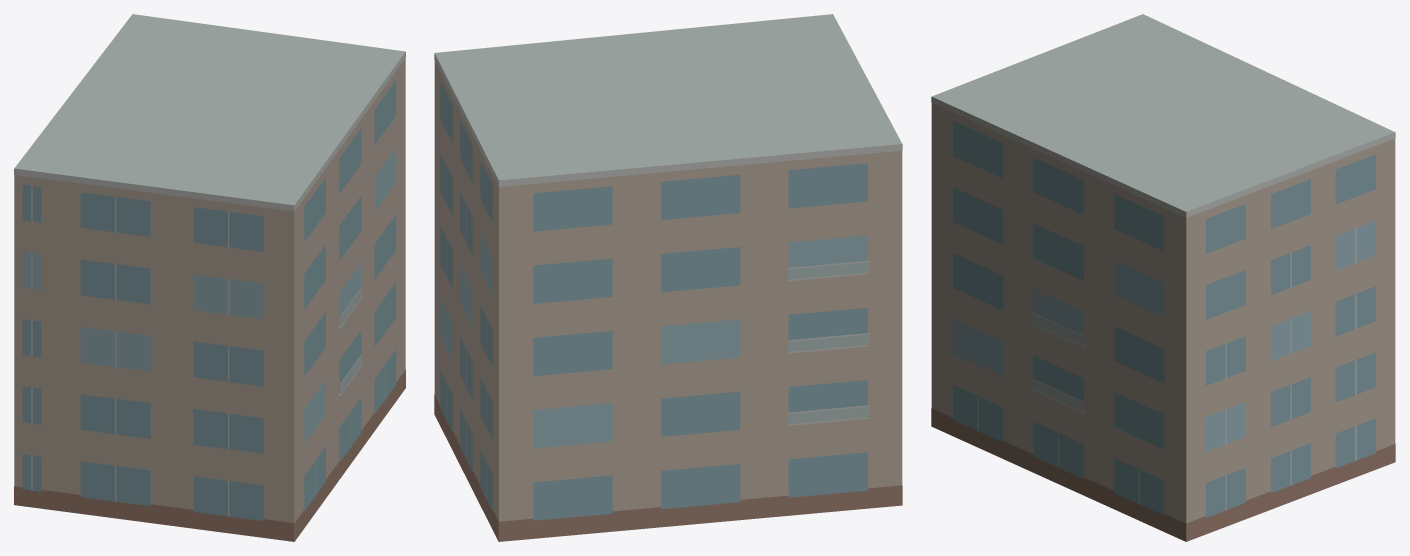
File: survey-upis-32832713.glb
The picture shows the model from 3 angles, left to right: view 1: azimuth 30°, elevation 25°; view 2: azimuth 150°, elevation 25°; view 3: azimuth 270°, elevation 25°; orthographic projection. The views are drawn at different scales.
Parts seen in each view (by area): view 1: survey-upis-32832713.tmp; view 2: survey-upis-32832713.tmp; view 3: survey-upis-32832713.tmp.
Part boxes in pixels (<box>): survey-upis-32832713.tmp: <box>14,14,405,541</box>; survey-upis-32832713.tmp: <box>434,14,902,541</box>; survey-upis-32832713.tmp: <box>931,14,1395,541</box>.
Size of the model in its own units: 17.07 by 13.26 by 16.9.
